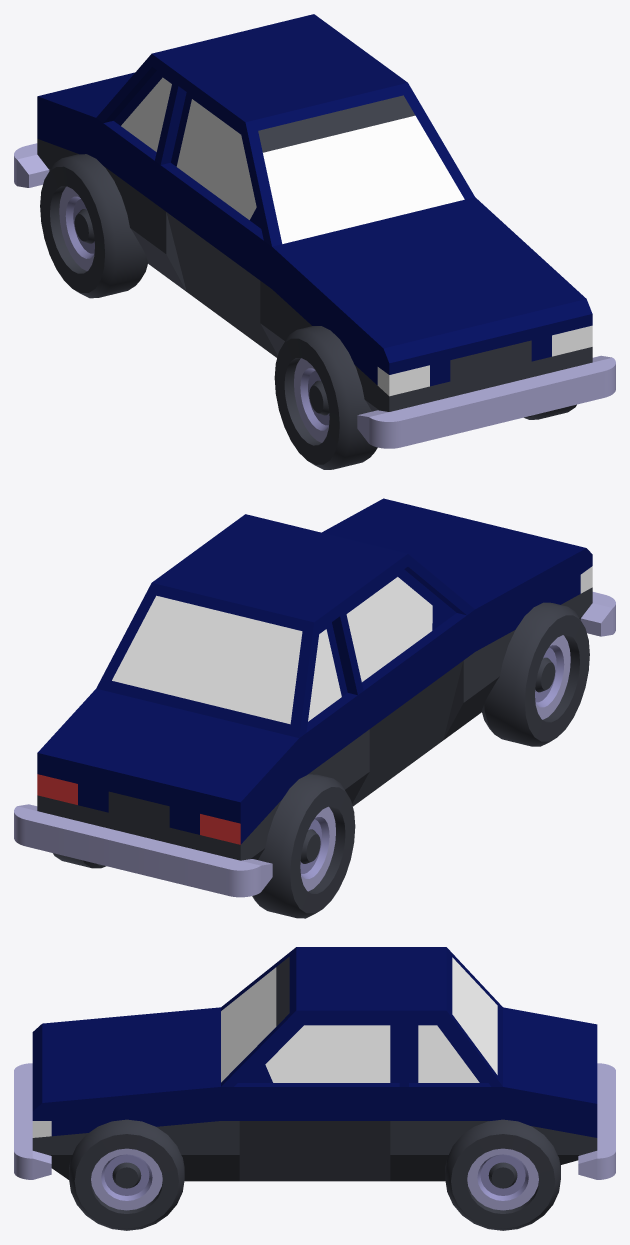
The model's file is bluecar.fbx.
The picture shows the model from 3 angles, top to bottom: view 1: azimuth 30°, elevation 25°; view 2: azimuth 150°, elevation 25°; view 3: azimuth 270°, elevation 25°; orthographic projection. The views are drawn at different scales.
Visible parts, largest first — view 1: body_frontStandard, body_topStandard, wheel_standard (×2), body_edge, bumper (×2), body_backStandard, body_topBackStandard; view 2: body_backStandard, body_topBackStandard, wheel_standard (×2), body_topStandard, body_frontStandard, body_edge, bumper (×2); view 3: body_frontStandard, body_topStandard, wheel_standard (×2), body_edge, body_backStandard, body_topBackStandard, bumper (×2).
Part boxes in pixels (x1=…): body_frontStandard: x1=272, y1=197, x2=592, y2=411; body_topStandard: x1=155, y1=31, x2=474, y2=246; wheel_standard (×2): x1=40, y1=154, x2=377, y2=469; body_edge: x1=154, y1=161, x2=280, y2=357; bumper (×2): x1=14, y1=143, x2=615, y2=448; body_backStandard: x1=37, y1=72, x2=174, y2=282; body_topBackStandard: x1=96, y1=14, x2=337, y2=151; body_backStandard: x1=37, y1=688, x2=357, y2=860; body_topBackStandard: x1=96, y1=565, x2=347, y2=737; wheel_standard (×2): x1=252, y1=602, x2=589, y2=918; body_topStandard: x1=175, y1=514, x2=474, y2=695; body_frontStandard: x1=322, y1=498, x2=592, y2=731; body_edge: x1=349, y1=609, x2=475, y2=806; bumper (×2): x1=14, y1=592, x2=615, y2=897; body_frontStandard: x1=32, y1=1007, x2=220, y2=1181; body_topStandard: x1=221, y1=947, x2=408, y2=1086; wheel_standard (×2): x1=69, y1=1119, x2=560, y2=1230; body_edge: x1=221, y1=1083, x2=408, y2=1181; body_backStandard: x1=409, y1=1007, x2=597, y2=1181; body_topBackStandard: x1=409, y1=947, x2=502, y2=1086; bumper (×2): x1=14, y1=1063, x2=615, y2=1179.
Size of the model in its own units: 12.33 by 12.08 by 32.
